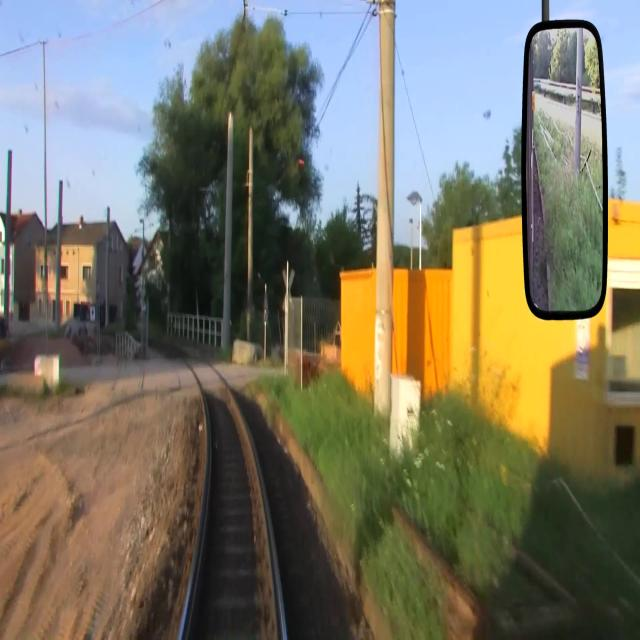rail-track: (184, 358, 280, 639)
